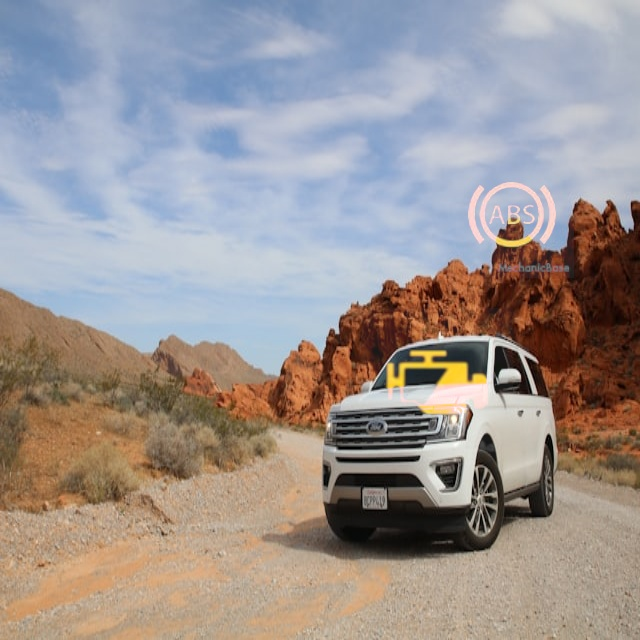symbol: (362, 308, 513, 459), (449, 153, 574, 278)
